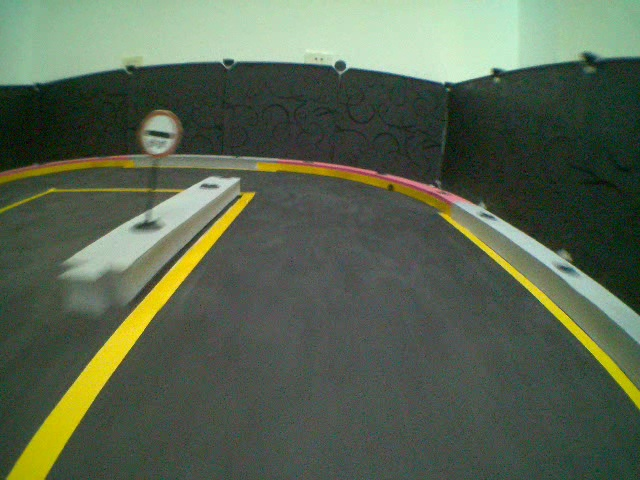Check: (138, 107, 184, 159)
